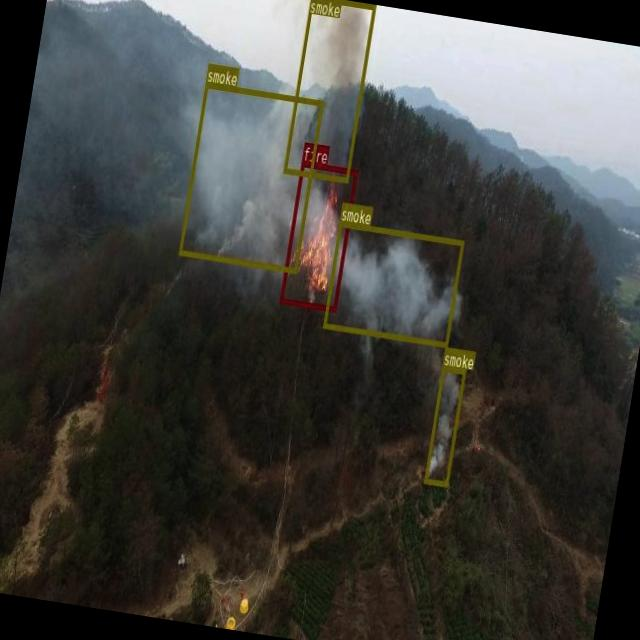fire: (278, 161, 358, 311)
smoke: (178, 82, 324, 273), (322, 220, 464, 347), (283, 0, 376, 181), (424, 365, 466, 485)
